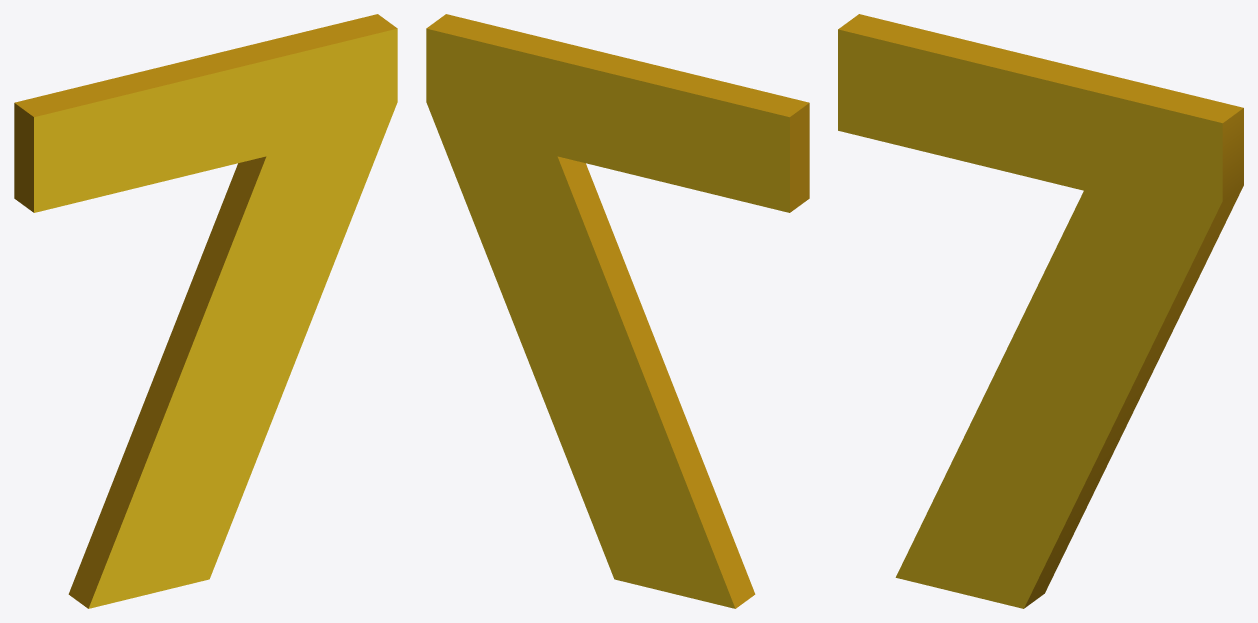
The model's file is Digito7.obj.
3 renders of one model, left to right at view 1: azimuth 30°, elevation 25°; view 2: azimuth 150°, elevation 25°; view 3: azimuth 330°, elevation 25°, orthographic. The views are drawn at different scales.
Parts seen in each view (by area): view 1: Digito7; view 2: Digito7; view 3: Digito7.
Boxes of the visible parts, <box> form: Digito7: <box>14,14,397,608</box>; Digito7: <box>426,14,809,608</box>; Digito7: <box>838,14,1243,608</box>.
Size of the model in its own units: 0.422 by 0.5601 by 0.04.
1 material, 1 textured.
